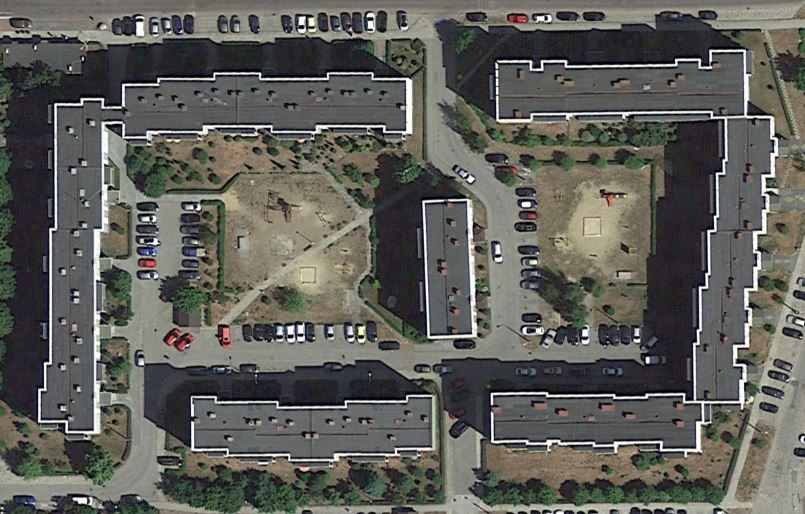block of flats: (688, 110, 786, 415), (31, 90, 108, 437), (115, 65, 425, 147), (485, 37, 758, 129), (183, 382, 442, 467), (479, 387, 714, 460), (416, 195, 484, 348)
